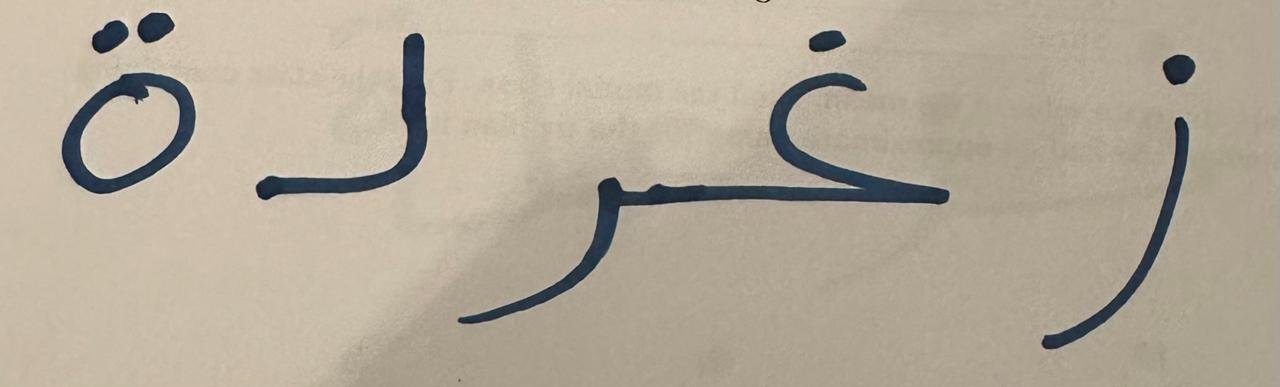dal: (228, 6, 440, 231)
ghain: (695, 9, 968, 328)
hamza: (975, 17, 1264, 377)
sad: (445, 48, 689, 354)
thal: (43, 0, 222, 224)
